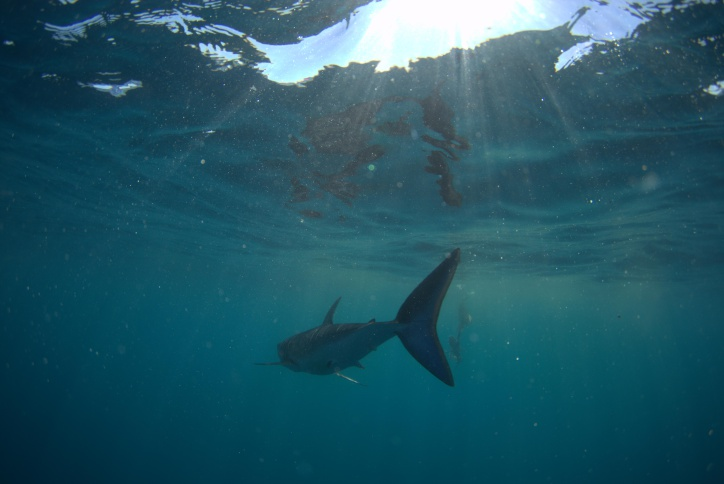Mako: (249, 238, 472, 406)
